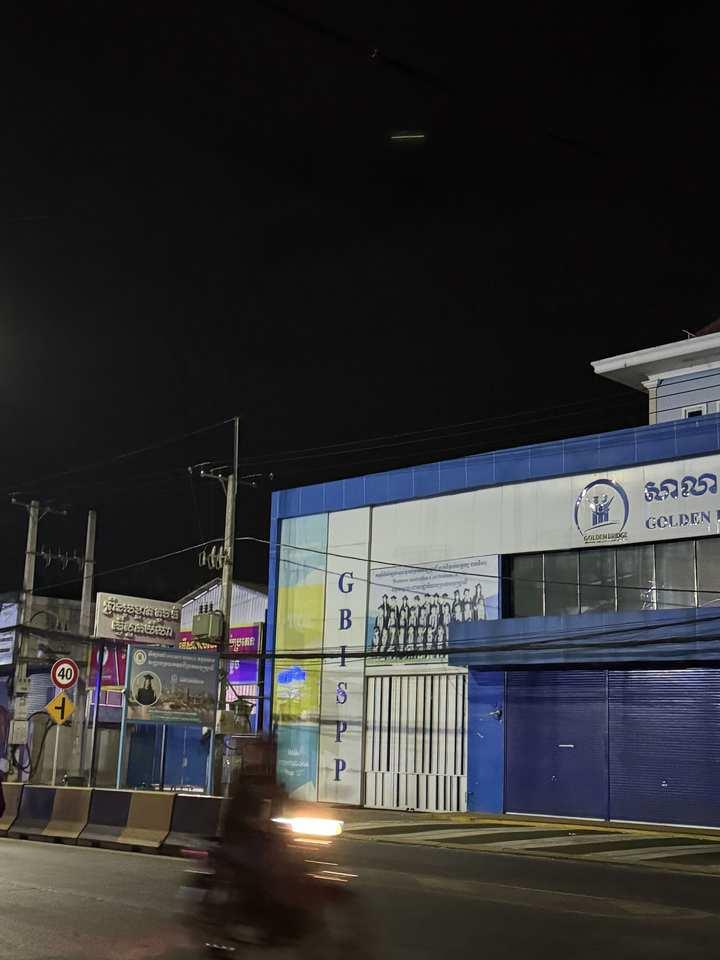side_road_junction_left: (45, 690, 75, 724)
speed_limit_40: (50, 658, 79, 689)
